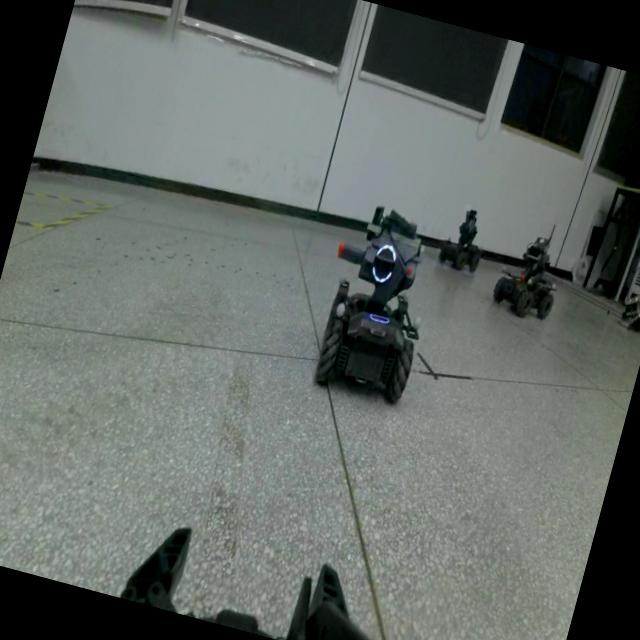s1: (291, 192, 454, 418), (483, 208, 574, 328), (435, 197, 494, 278)
